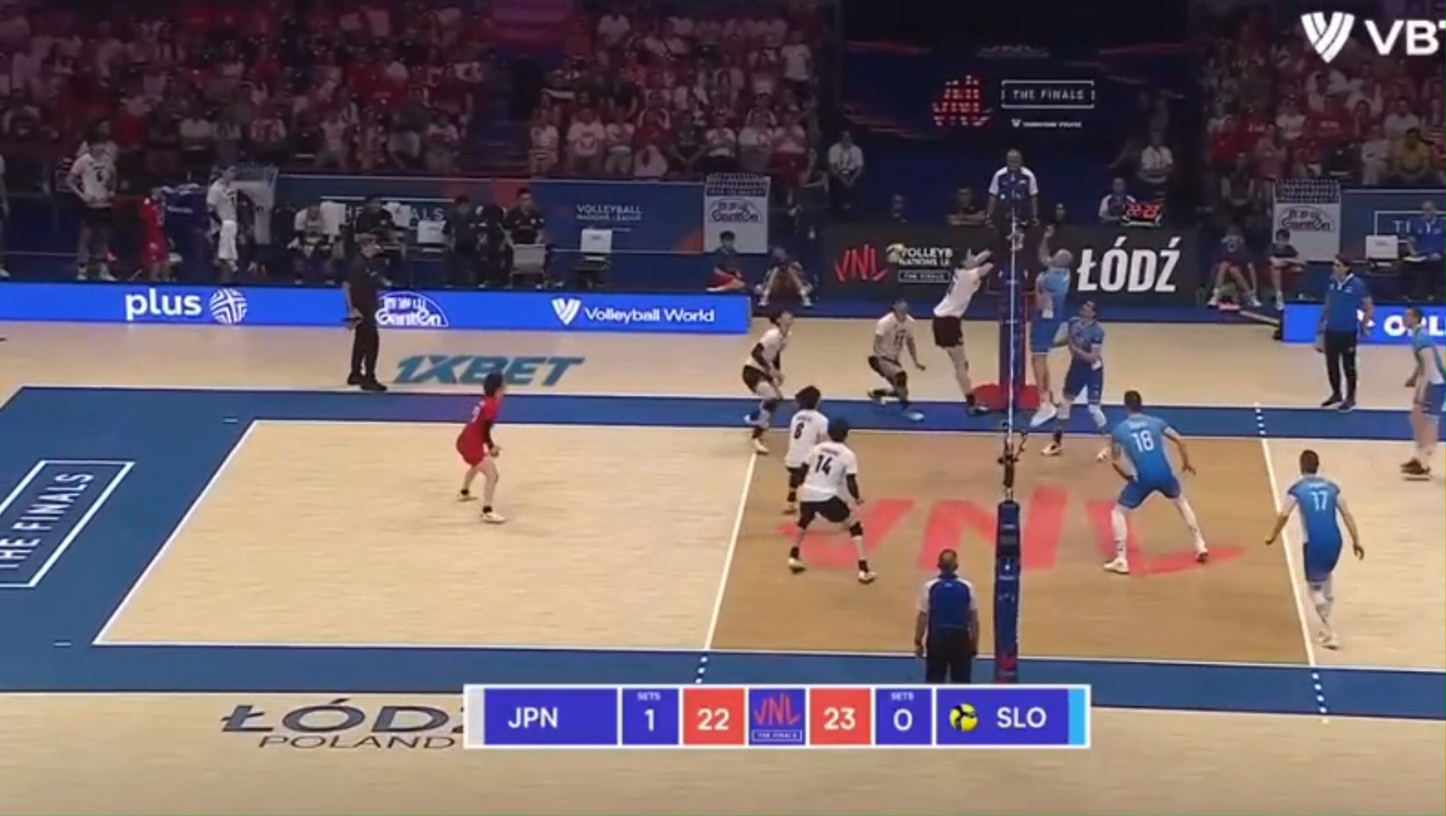ball: (885, 243, 907, 264)
player: (1102, 391, 1208, 573), (1281, 450, 1363, 603), (1042, 301, 1106, 456), (1028, 233, 1071, 422), (1401, 307, 1445, 478)
player 1: (789, 418, 876, 583), (931, 249, 991, 414), (455, 372, 505, 524), (742, 311, 793, 454), (868, 299, 925, 419), (784, 386, 828, 512), (870, 315, 903, 376)
referee: (914, 549, 979, 683), (1317, 257, 1373, 410), (986, 150, 1043, 286), (342, 233, 388, 392)
